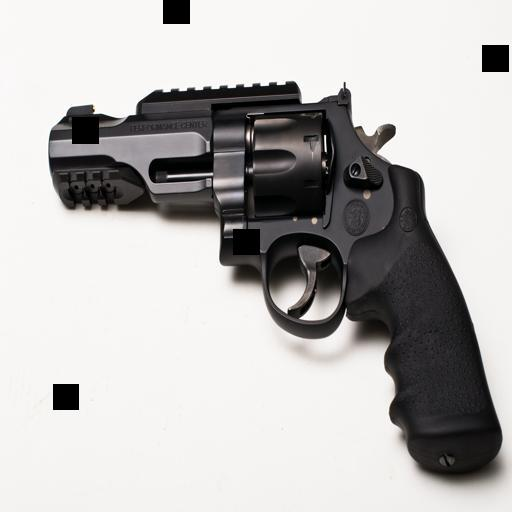Handgun: (44, 73, 501, 480)
